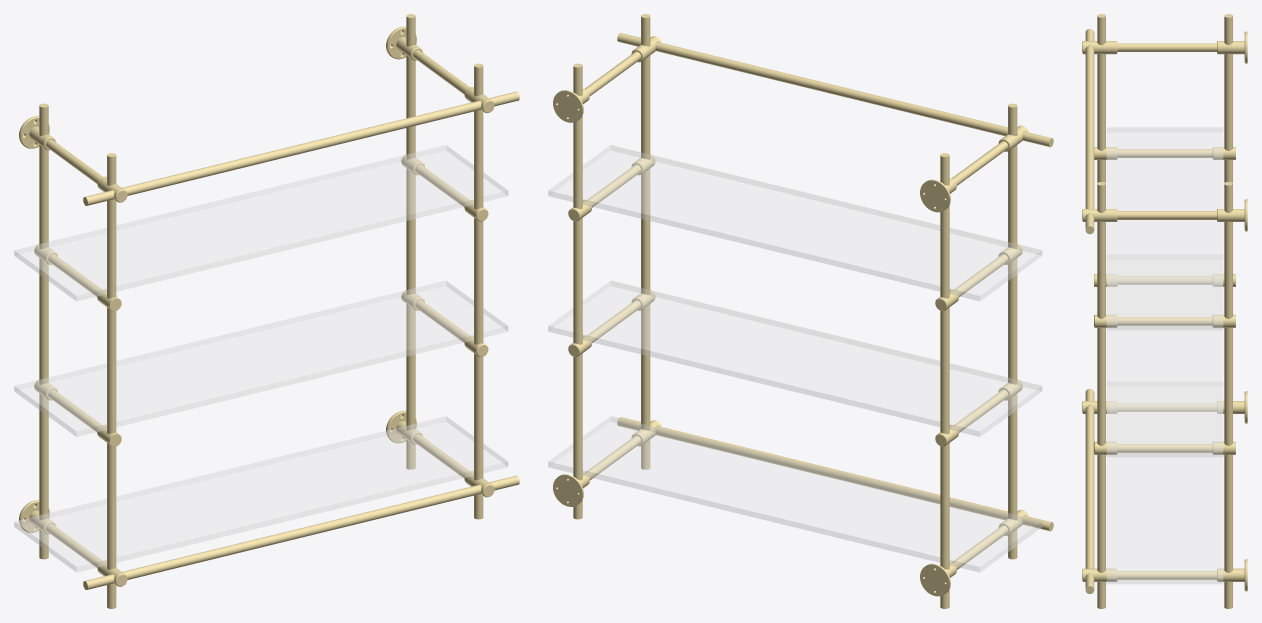
File: wall_40w_40h_3s_br.glb
3 views of the same model, side by side, from view 1: azimuth 30°, elevation 25°; view 2: azimuth 150°, elevation 25°; view 3: azimuth 270°, elevation 25° (orthographic). The views are drawn at different scales.
Visible parts, largest first — view 1: Glass Shelf, Shelf, Shelf_1, Vertical Posts (×4), Crossbar, Top Rungs; view 2: Shelf_1, Shelf, Glass Shelf, Vertical Posts (×4), Top Rungs, Crossbar, J Fitting, J Fitting (3), J Fitting (2), J Fitting (1); view 3: Shelf_1, Glass Shelf, Shelf, Vertical Posts (×4), Top Rungs, Crossbar, Rod (4) (×2), Rod (5) (×2), Rod (2), Rod (3), Rod (1), Rod (+12 smaller).
Boxes of the visible parts, x1,y1,x2,y2 form: Glass Shelf: (14,416,507,572); Shelf: (14,281,507,436); Shelf_1: (14,145,507,301); Vertical Posts (×4): (39,14,483,608); Crossbar: (83,475,519,589); Top Rungs: (83,91,519,205); Shelf_1: (548,145,1041,300); Shelf: (548,281,1041,436); Glass Shelf: (548,416,1041,572); Vertical Posts (×4): (573,14,1017,608); Top Rungs: (617,33,1053,147); Crossbar: (617,417,1053,531); J Fitting: (920,563,950,596); J Fitting (3): (920,179,950,212); J Fitting (2): (553,90,583,122); J Fitting (1): (553,474,583,506); Shelf_1: (1107,127,1222,329); Glass Shelf: (1107,381,1222,583); Shelf: (1107,254,1222,456); Vertical Posts (×4): (1097,14,1232,608); Top Rungs: (1085,29,1094,234); Crossbar: (1085,388,1094,593); Rod (4) (×2): (1117,317,1212,452); Rod (5) (×2): (1117,149,1212,284); Rod (2): (1117,211,1216,219); Rod (3): (1117,43,1216,51); Rod (1): (1117,571,1216,579); Rod: (1117,403,1216,411).
Size of the model in its own units: 1.02 by 1.02 by 0.3591.
